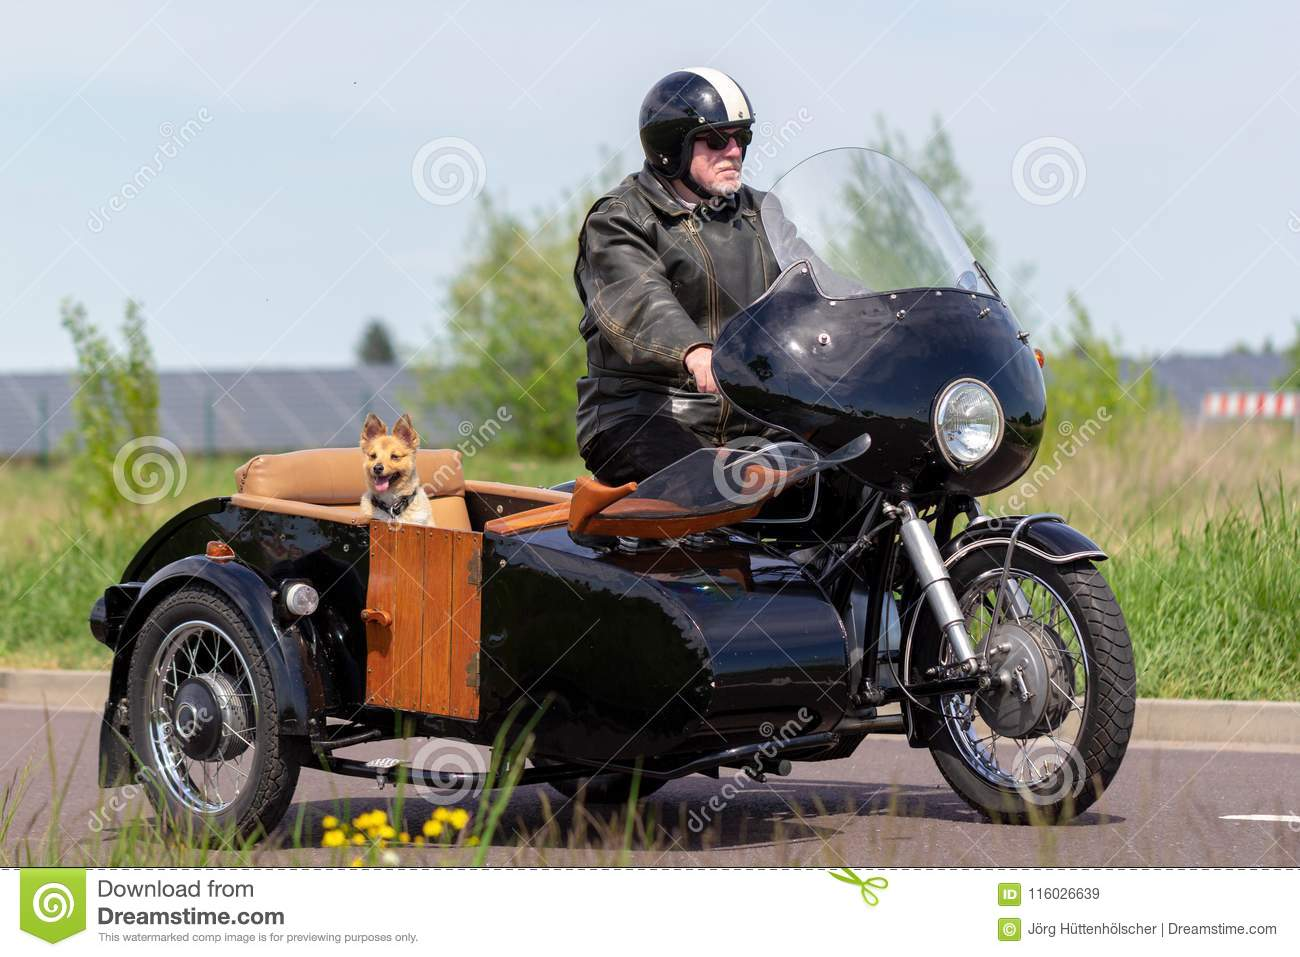helmet: (634, 69, 759, 177)
